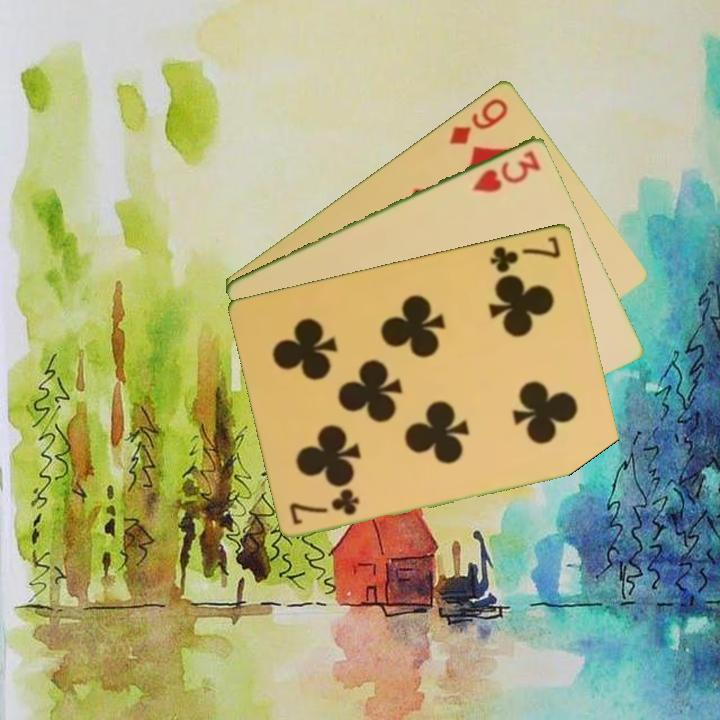3h: (469, 146, 544, 195)
7c: (486, 232, 564, 275), (286, 486, 363, 527)
9d: (446, 93, 511, 147)
